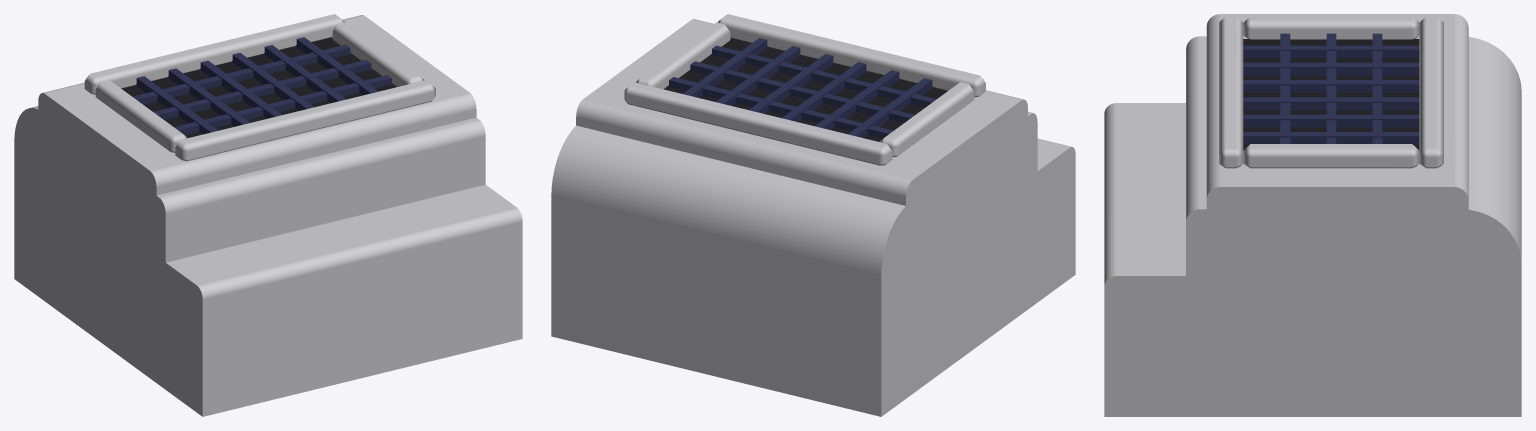
Rendered from roof.shoulder.straight.grille.s3.glb.
3 renders of one model, left to right at view 1: azimuth 30°, elevation 25°; view 2: azimuth 150°, elevation 25°; view 3: azimuth 270°, elevation 25°, orthographic. The views are drawn at different scales.
Parts seen in each view (by area): view 1: roof.shoulder.straight.grille.s3; view 2: roof.shoulder.straight.grille.s3; view 3: roof.shoulder.straight.grille.s3.
Boxes of the visible parts, box(x1,y1,x2,y2) form: roof.shoulder.straight.grille.s3: box(14, 14, 522, 416); roof.shoulder.straight.grille.s3: box(551, 14, 1075, 416); roof.shoulder.straight.grille.s3: box(1104, 14, 1521, 416).
Bounding box in the file's own units: 1 × 0.67 × 1.02.
